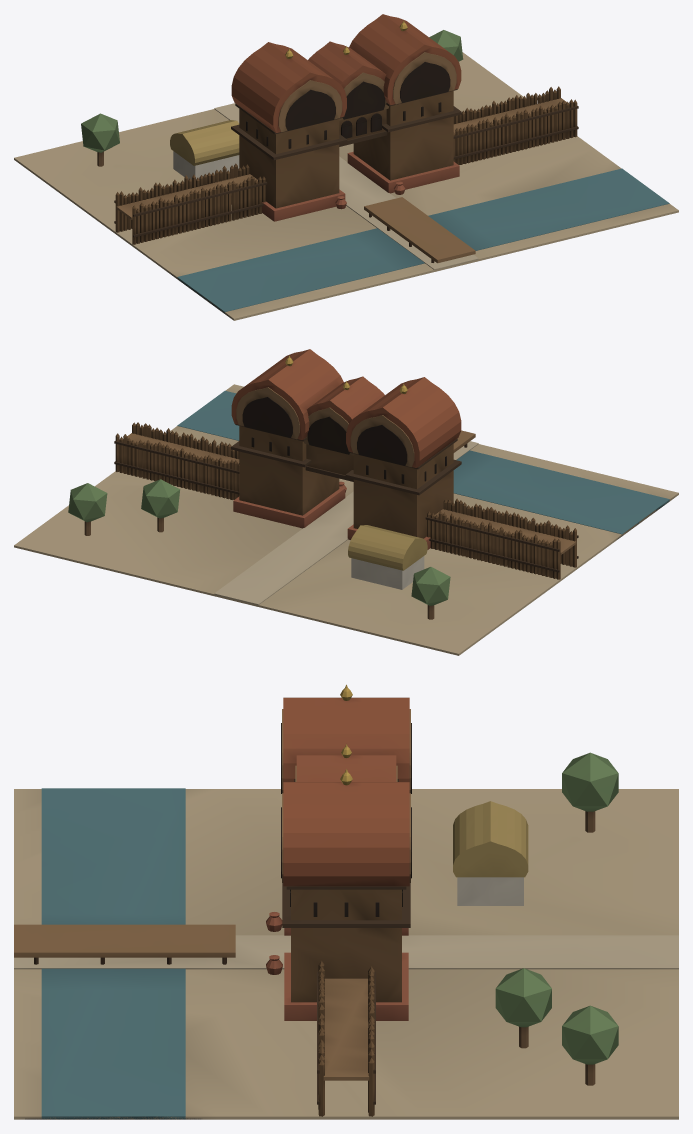
The model's file is city-gate.glb.
3 views of the same model, one above another, from view 1: azimuth 30°, elevation 25°; view 2: azimuth 150°, elevation 25°; view 3: azimuth 270°, elevation 25° (orthographic). The views are drawn at different scales.
Parts seen in each view (by area): view 1: p0_ditch and bridge, p2_gate towers, p1_palisade, p3_roof; view 2: p0_ditch and bridge, p2_gate towers, p1_palisade, p3_roof; view 3: p0_ditch and bridge, p2_gate towers, p3_roof, p1_palisade.
Part boxes in pixels (x1,y1,x2,y2): p0_ditch and bridge: [14, 52, 678, 320]; p2_gate towers: [231, 14, 461, 221]; p1_palisade: [114, 86, 578, 244]; p3_roof: [81, 30, 463, 179]; p0_ditch and bridge: [14, 384, 678, 655]; p2_gate towers: [231, 349, 461, 549]; p1_palisade: [114, 422, 578, 579]; p3_roof: [68, 376, 450, 619]; p0_ditch and bridge: [14, 788, 678, 1119]; p2_gate towers: [266, 684, 411, 1020]; p3_roof: [294, 744, 618, 1085]; p1_palisade: [317, 961, 375, 1116].
Bounding box in the file's own units: 70 × 22.83 × 60.
